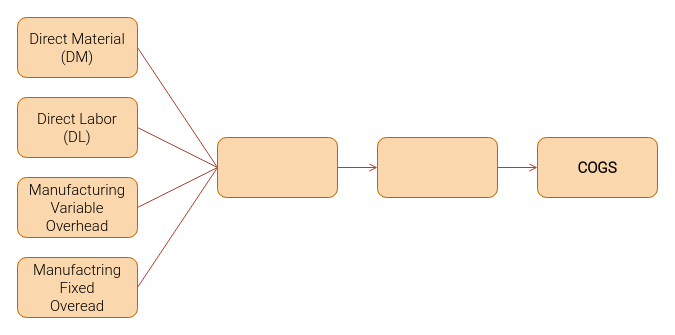
Some shapes in this 675 by 335 pixel diagram are drawn without their labels. The shapes that lost their labels are listed below. From the top down, each one's centre as x and y in pixels, then its label:
the point at 277,167: Work in Process (WIP)
the point at 437,167: Finished Goods (FG)
